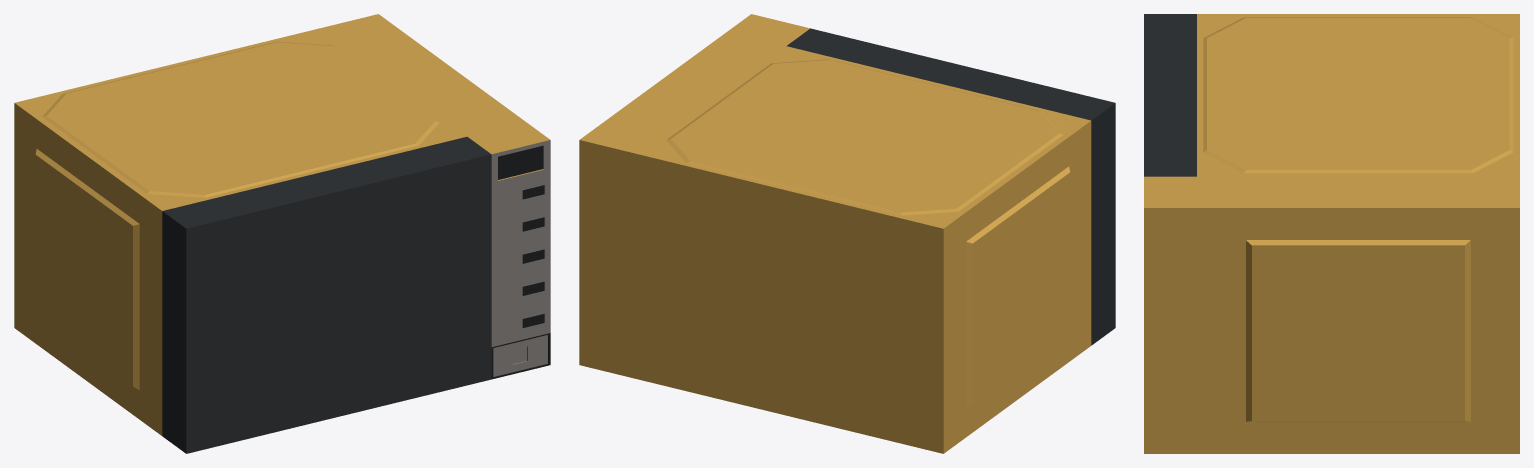
Rendered from microwavemodern_01_D.gltf.
3 views of the same model, side by side, from view 1: azimuth 30°, elevation 25°; view 2: azimuth 150°, elevation 25°; view 3: azimuth 270°, elevation 25° (orthographic). The views are drawn at different scales.
Visible parts, largest first — view 1: microwavemodern_01_D, Doorformicrowavemodern_01_D, Buttonformicrowavemodern_01_D; view 2: microwavemodern_01_D, Doorformicrowavemodern_01_D; view 3: microwavemodern_01_D, Doorformicrowavemodern_01_D.
Boxes of the visible parts, x1,y1,x2,y2 form: microwavemodern_01_D: [14, 14, 550, 435]; Doorformicrowavemodern_01_D: [162, 136, 491, 453]; Buttonformicrowavemodern_01_D: [493, 335, 547, 376]; microwavemodern_01_D: [579, 14, 1091, 453]; Doorformicrowavemodern_01_D: [787, 28, 1115, 345]; microwavemodern_01_D: [1144, 14, 1519, 453]; Doorformicrowavemodern_01_D: [1144, 14, 1196, 176].
Size of the model in its own units: 0.4497 by 0.2613 by 0.36.
1 material, 1 textured.
